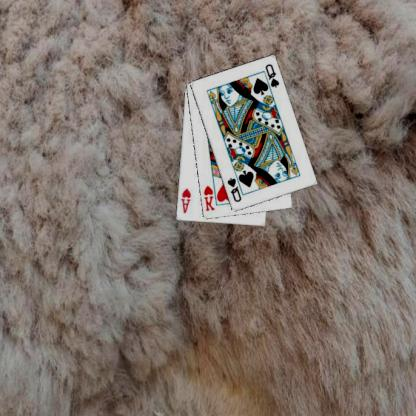AH: (180, 186, 194, 215)
KH: (202, 183, 218, 212)
QS: (226, 175, 245, 204), (264, 61, 282, 89)
